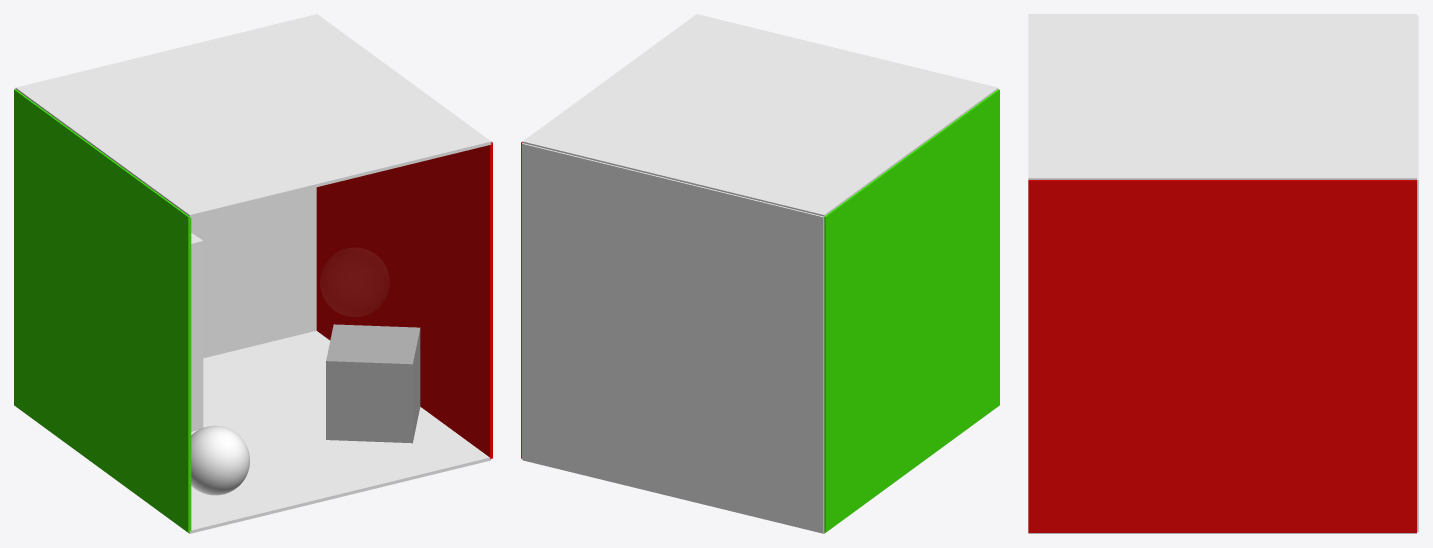
The model's file is cornellBox2.gltf.
3 renders of one model, left to right at view 1: azimuth 30°, elevation 25°; view 2: azimuth 150°, elevation 25°; view 3: azimuth 270°, elevation 25°, orthographic. The views are drawn at different scales.
Visible parts, largest first — view 1: cube_instance_5, cube_instance_3, cube_instance_6, cube_instance_2, cube_instance, cube_instance_14, sphere_instance_22, cube_instance_16; view 2: cube_instance, cube_instance_5, cube_instance_3; view 3: cube_instance_6, cube_instance_3, cube_instance.
Part boxes in pixels (x1,y1,x2,y2): cube_instance_5: [14, 89, 191, 532]; cube_instance_3: [15, 14, 491, 217]; cube_instance_6: [316, 142, 492, 458]; cube_instance_2: [21, 331, 491, 533]; cube_instance: [15, 88, 316, 358]; cube_instance_14: [326, 324, 420, 443]; sphere_instance_22: [191, 425, 249, 495]; cube_instance_16: [191, 233, 203, 431]; cube_instance: [521, 143, 824, 532]; cube_instance_5: [824, 89, 999, 532]; cube_instance_3: [522, 14, 998, 216]; cube_instance_6: [1028, 180, 1416, 532]; cube_instance_3: [1028, 14, 1416, 179]; cube_instance: [1417, 15, 1418, 532].
Size of the model in its own units: 10.1 by 10.1 by 10.05.
